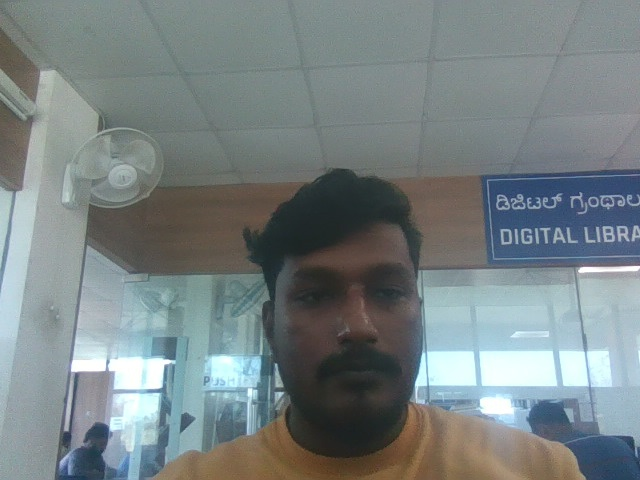real: (246, 150, 451, 440)
